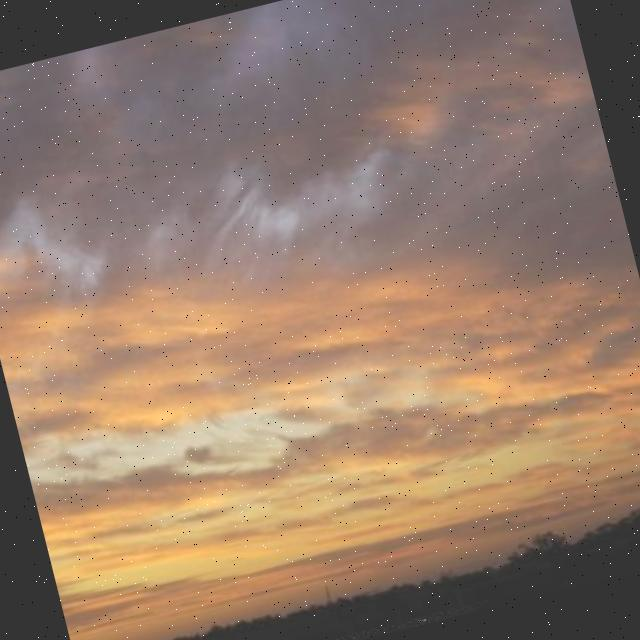As: (1, 1, 640, 556)
